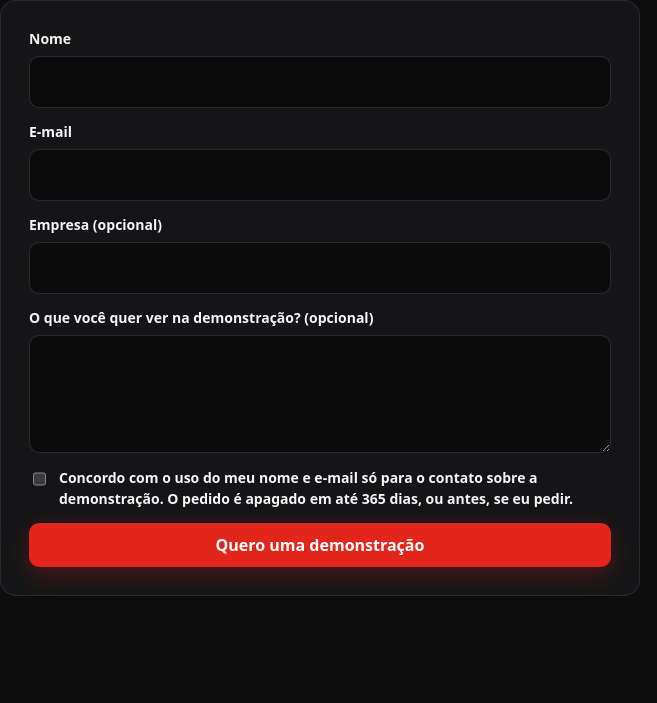
Scenario: FormularioDeDemonstracao › valida antes de enviar: campos obrigatórios e consentimento
The image size is (657, 703).
Click the button "Quero uma demonstração" at (320, 545), box [29,523,611,567]
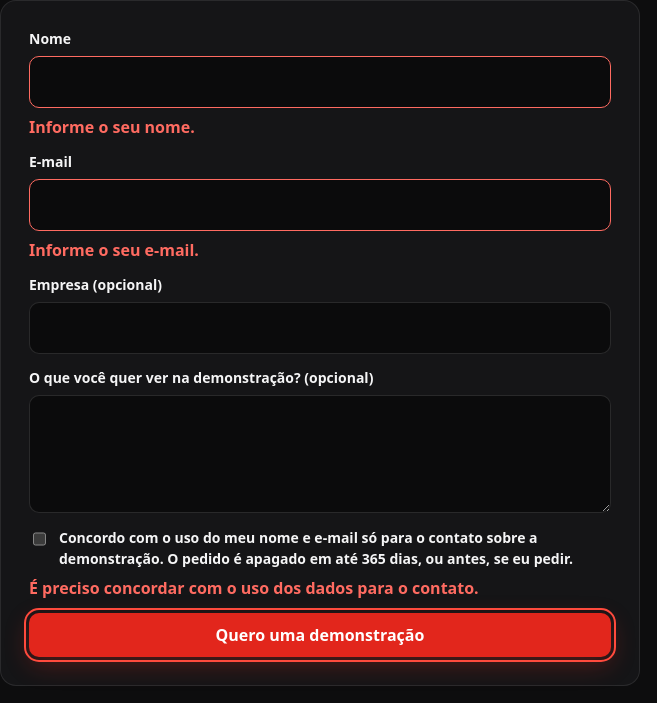
Expected: the text "Informe o seu nome." is shown, [29,116,195,138]
Expected: the text "Informe o seu e-mail." is shown, [29,239,199,261]
Expected: the text "É preciso concordar com o uso dos dados para o contato." is shown, [29,577,479,599]
